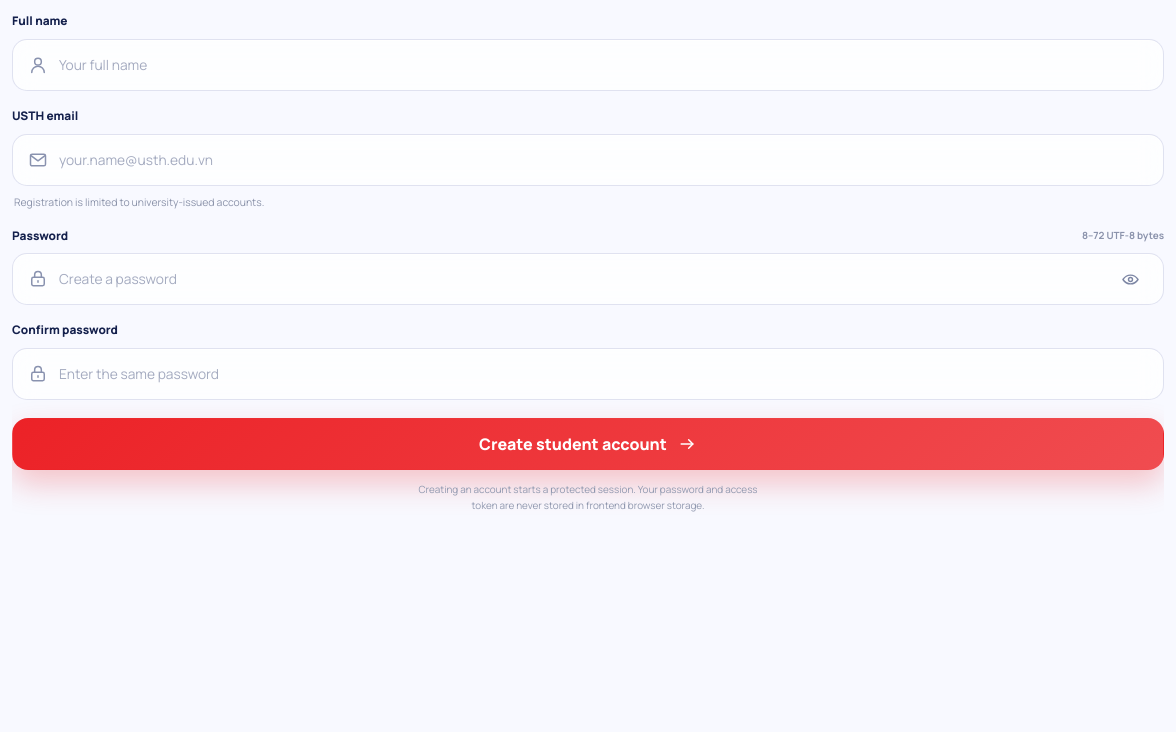
Test: RegisterForm › prevents duplicate submission while registration is pending
In the field labelled "Full name": (604, 65) [59, 40, 1148, 90], type "Nam Tran"
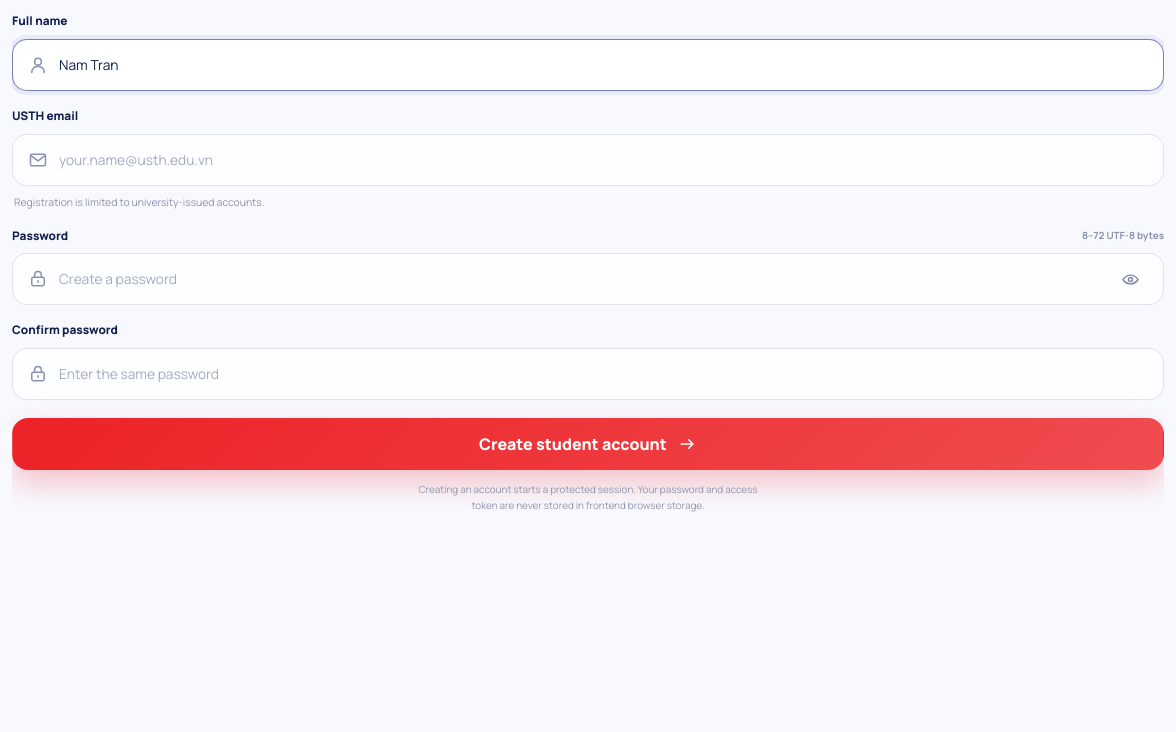
In the field labelled "USTH email": (604, 160) [59, 135, 1148, 185], type "nam.tran@usth.edu.vn"
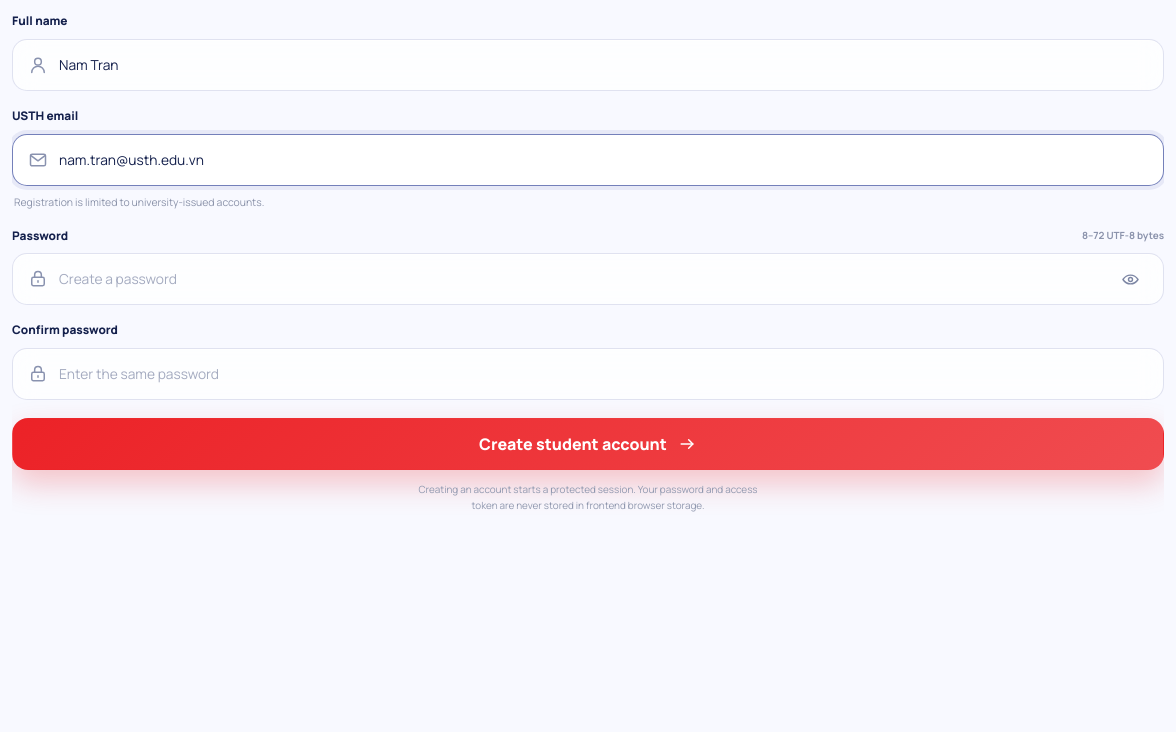
In the password field labelled "Password": (580, 280) [59, 254, 1102, 304], type "password123"
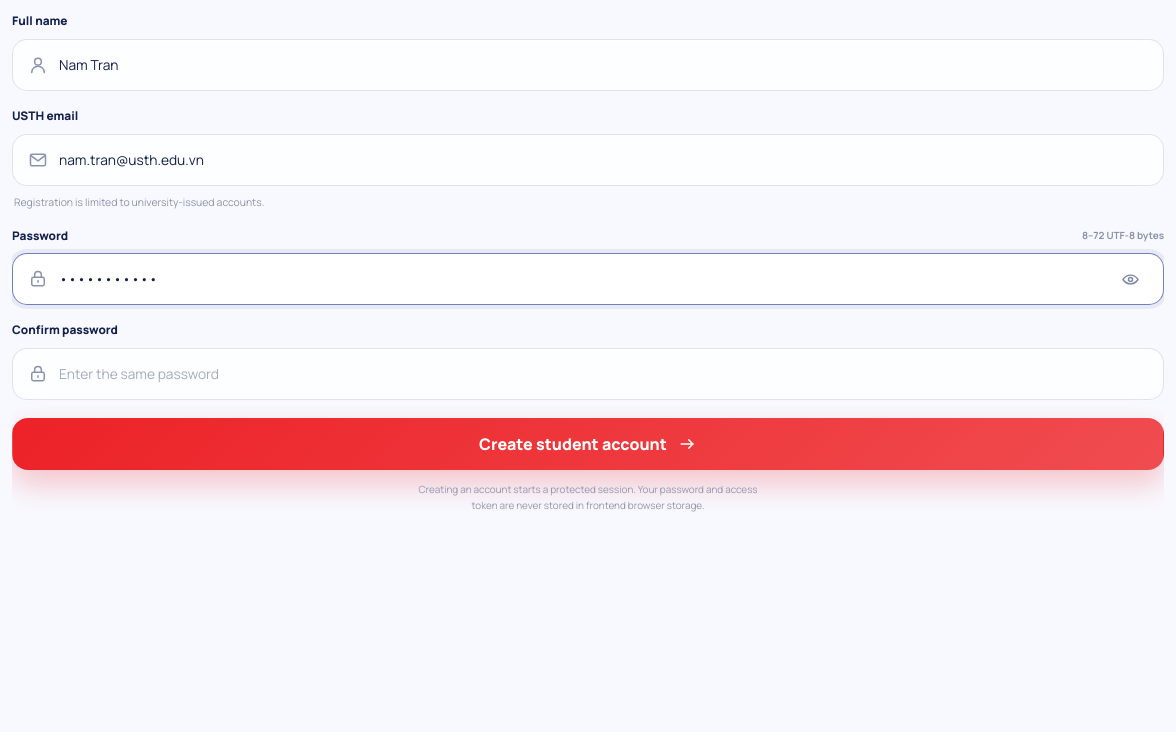
In the password field labelled "Confirm password": (604, 374) [59, 349, 1148, 399], type "password123"
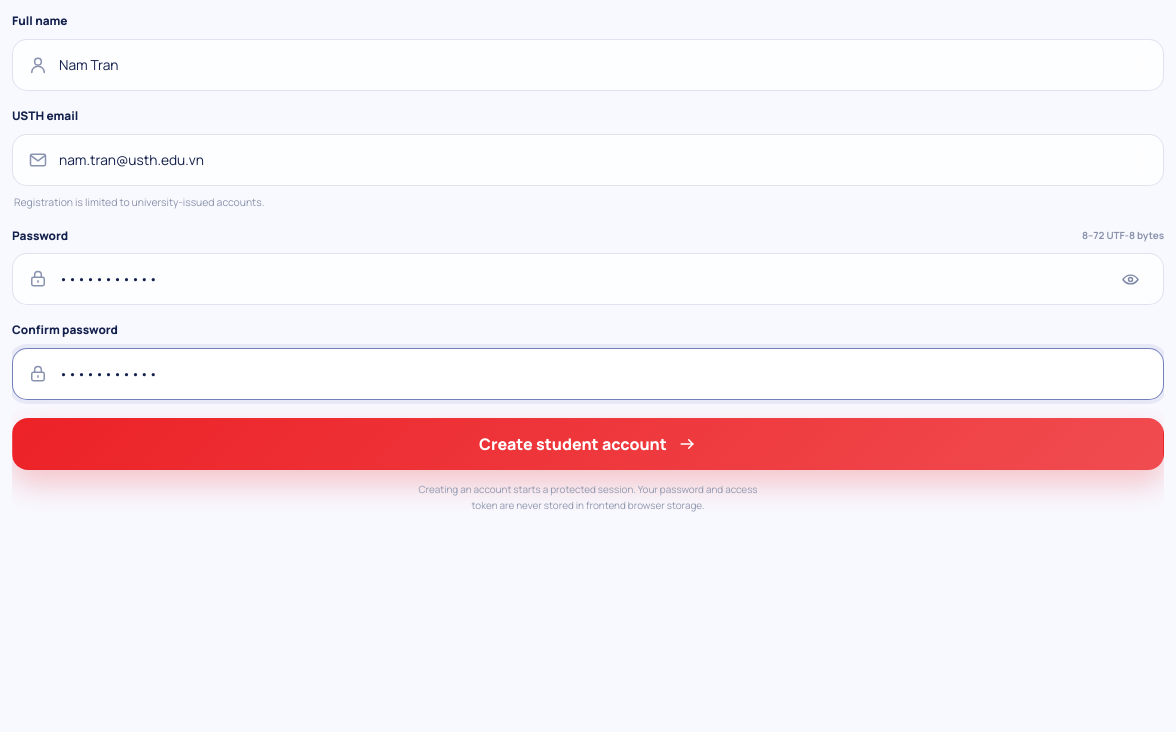
Submit the form named "Create student account"
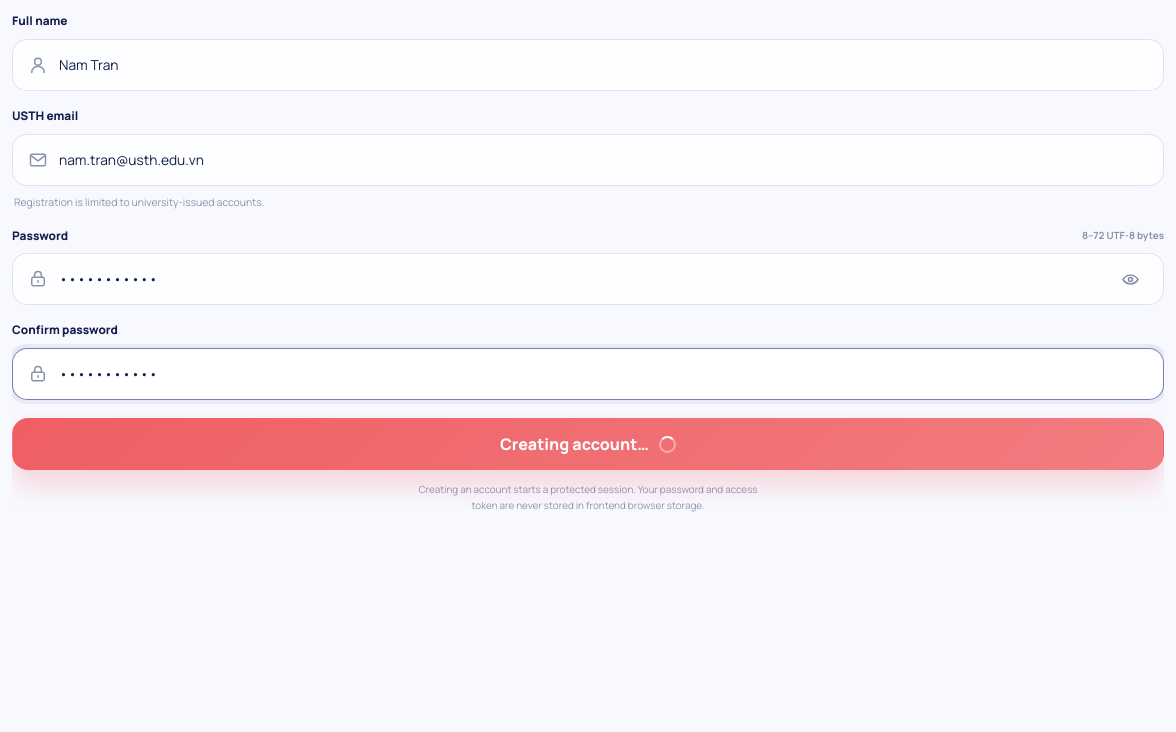
Now the button "Creating account…" is disabled, box [12, 418, 1164, 470]
